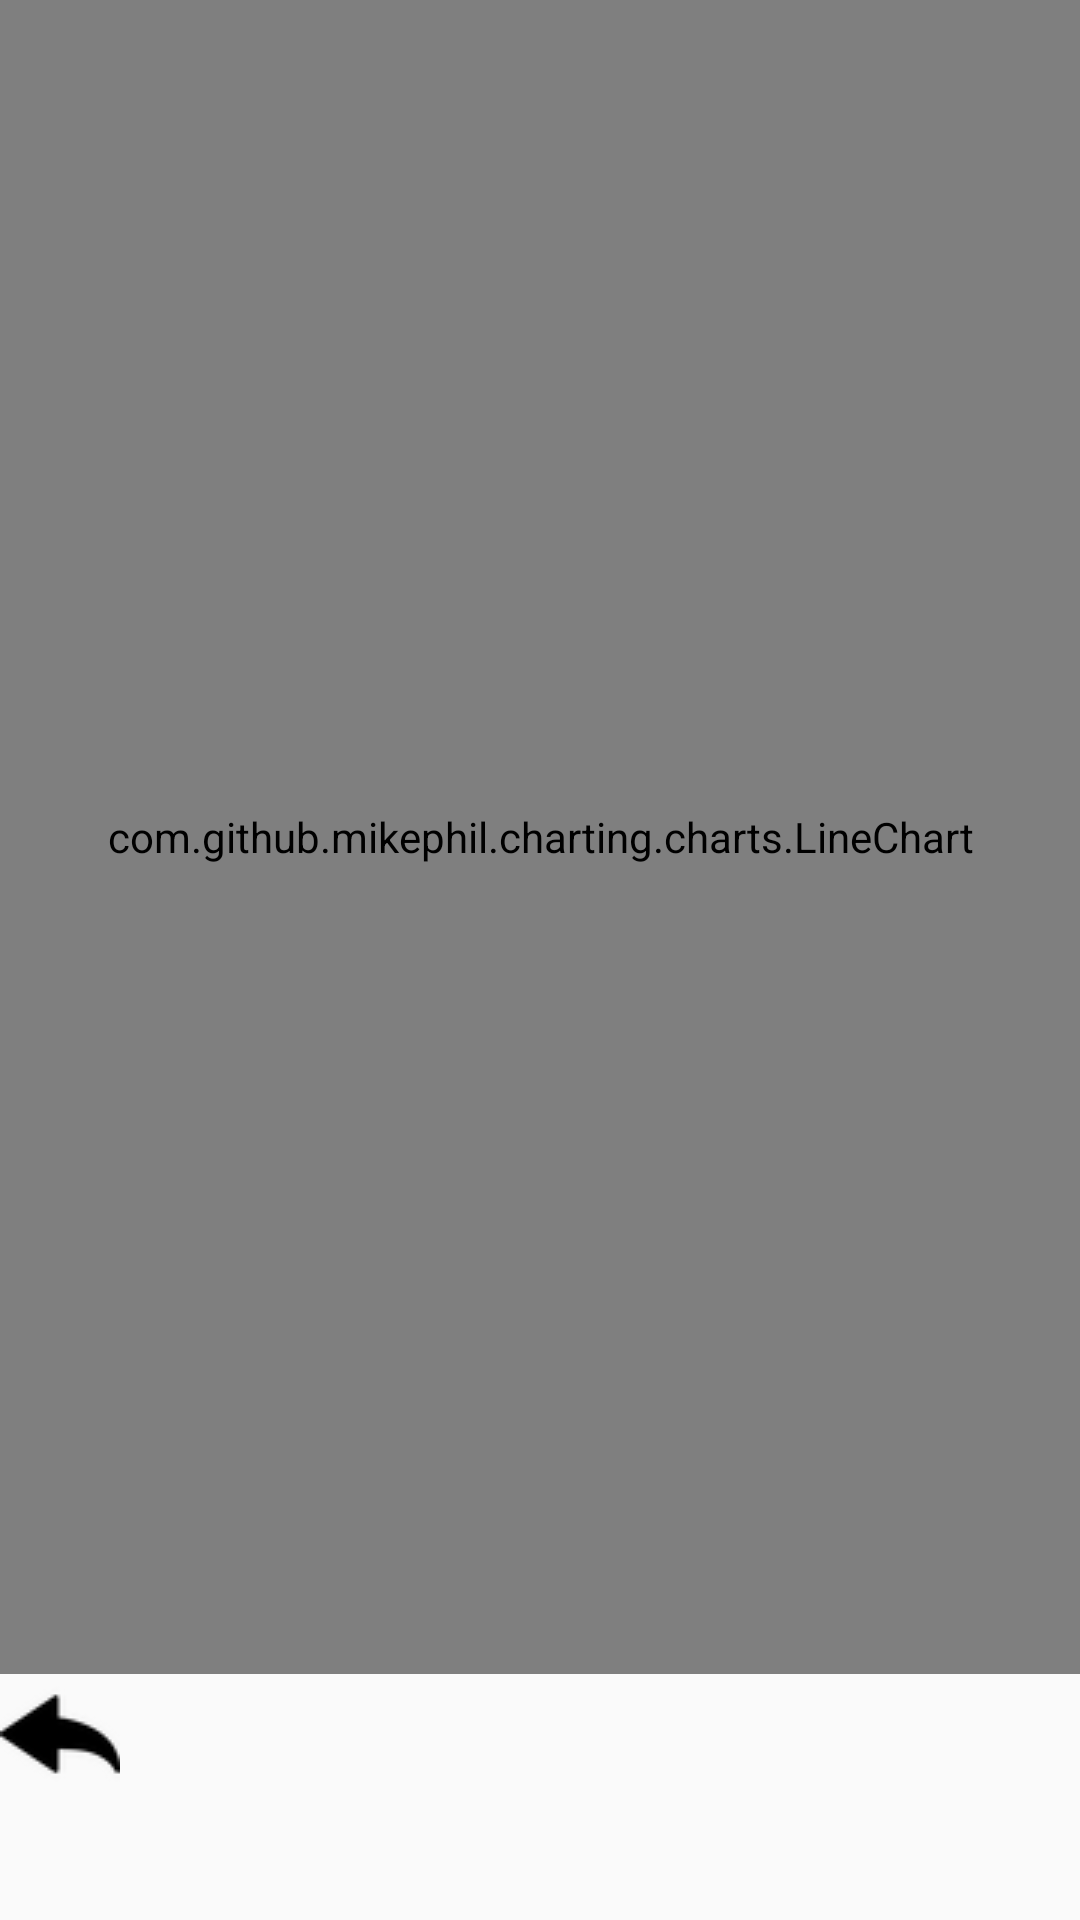

Icon bounding boxes for this 1080w x 1920h phone screenshot, format box(x1, y1, x2, y2):
rsz back: box(0, 1694, 120, 1774)
